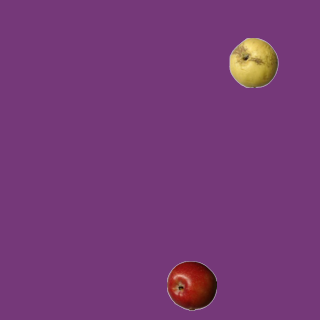Apple Braeburn: (166, 260, 216, 310)
Apple Golden 1: (228, 37, 278, 87)
